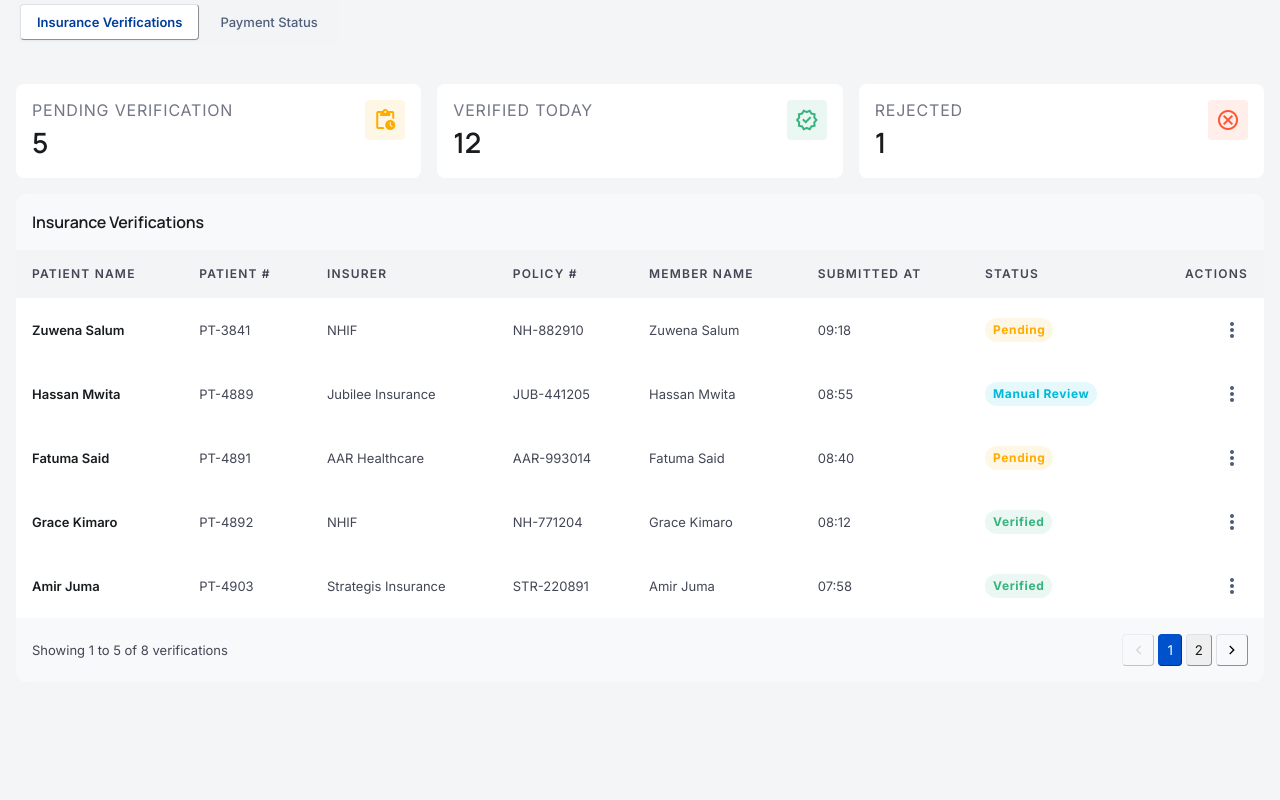
Test: BillsPage › allows switching to Payment Status tab and renders billing KPIs and table
The image size is (1280, 800).
Click the tab "Payment Status".
click(269, 22)  # box x1=203 y1=4 x2=335 y2=40
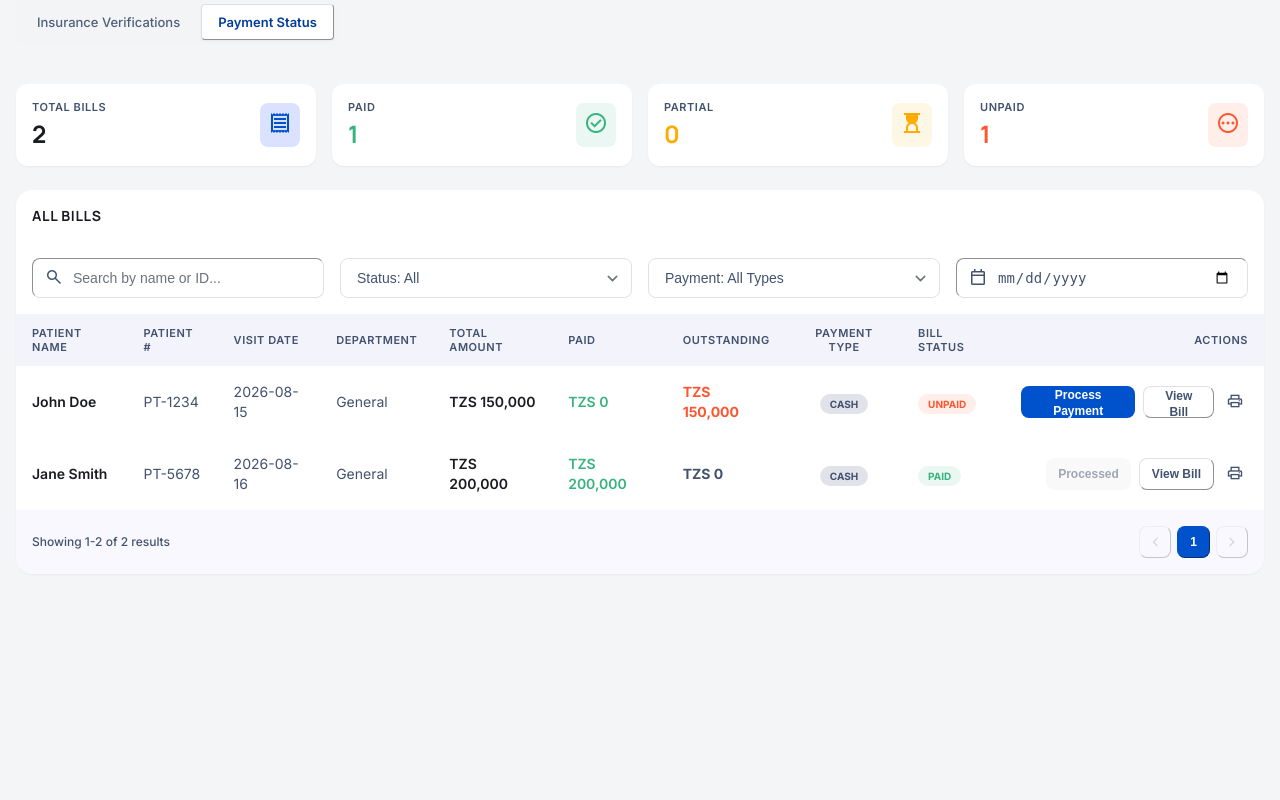
Expected: the text "Total Bills" is shown, x1=32 y1=100 x2=106 y2=114
Expected: the text "John Doe" is shown, x1=16 y1=366 x2=128 y2=438
Expected: the text "Jane Smith" is shown, x1=16 y1=438 x2=128 y2=510
